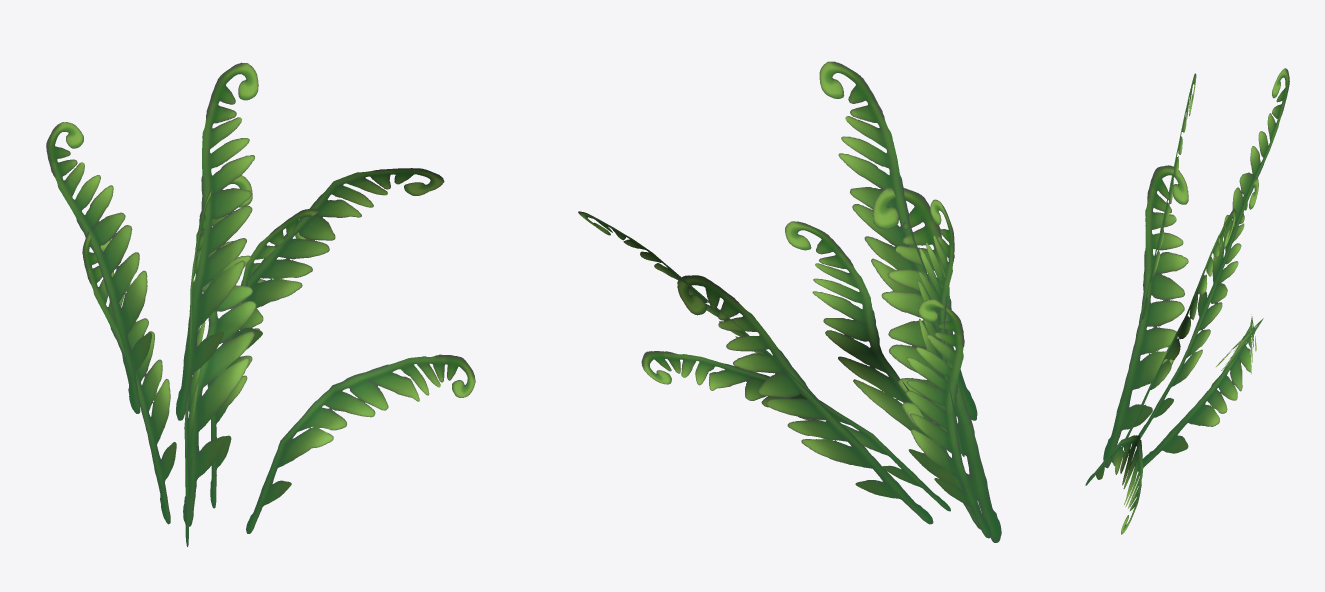
The model's file is Jungle_plant_09.fbx.
3 views of the same model, side by side, from view 1: azimuth 30°, elevation 25°; view 2: azimuth 150°, elevation 25°; view 3: azimuth 270°, elevation 25° (orthographic). The views are drawn at different scales.
Parts seen in each view (by area): view 1: Jungle_plant_09; view 2: Jungle_plant_09; view 3: Jungle_plant_09.
Part boxes in pixels (box(x1,y1,x2,y2)): Jungle_plant_09: box(46, 62, 475, 546); Jungle_plant_09: box(578, 61, 1001, 542); Jungle_plant_09: box(1085, 68, 1289, 534).
Size of the model in its own units: 123 by 138 by 57.29.
